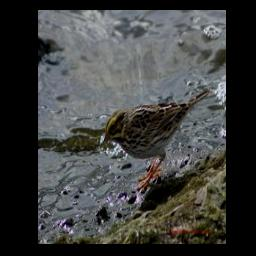Sparrow: (101, 86, 211, 190)
